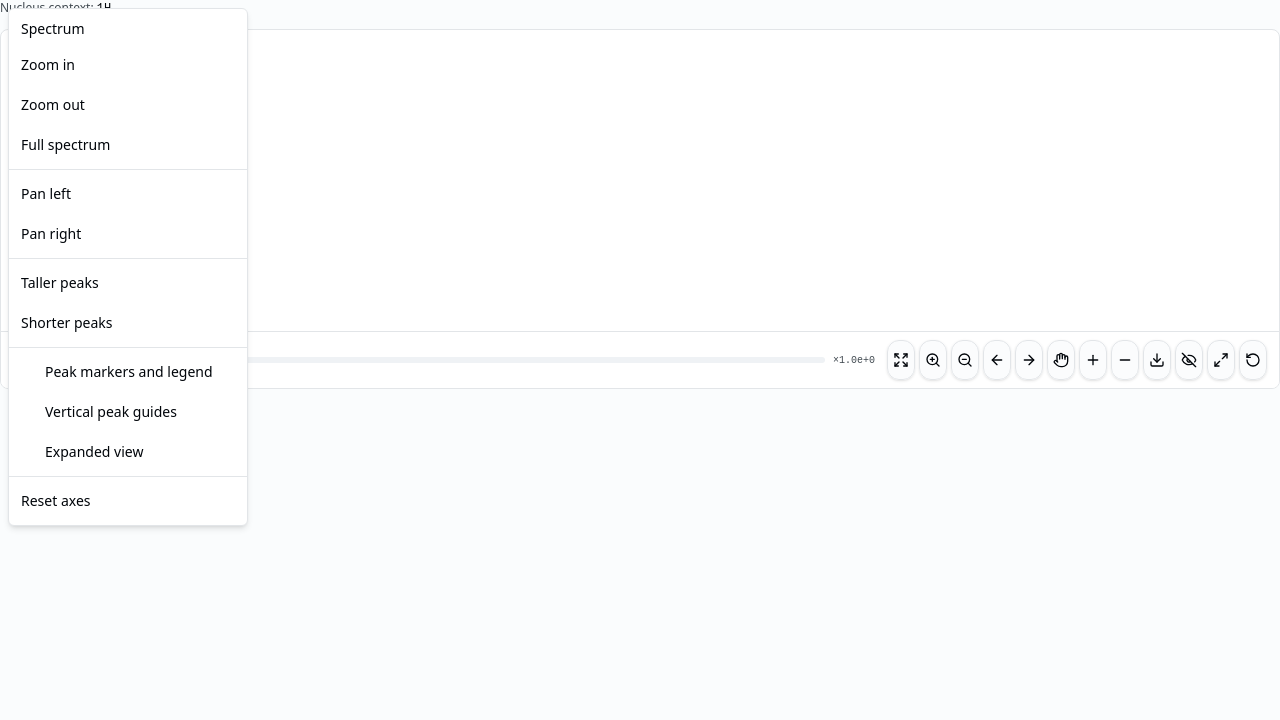
Scenario: SpectrumViewer — picked-peak rendering › defaults peak markers/legend and vertical peak guide lines off, then exposes both in the right-click menu
Earlier steps of the test are not shown.
Later steps or results of the test are not shown.
Click the menu item "Vertical peak guides". click: {"x": 128, "y": 412}
box: [13,392,243,432]
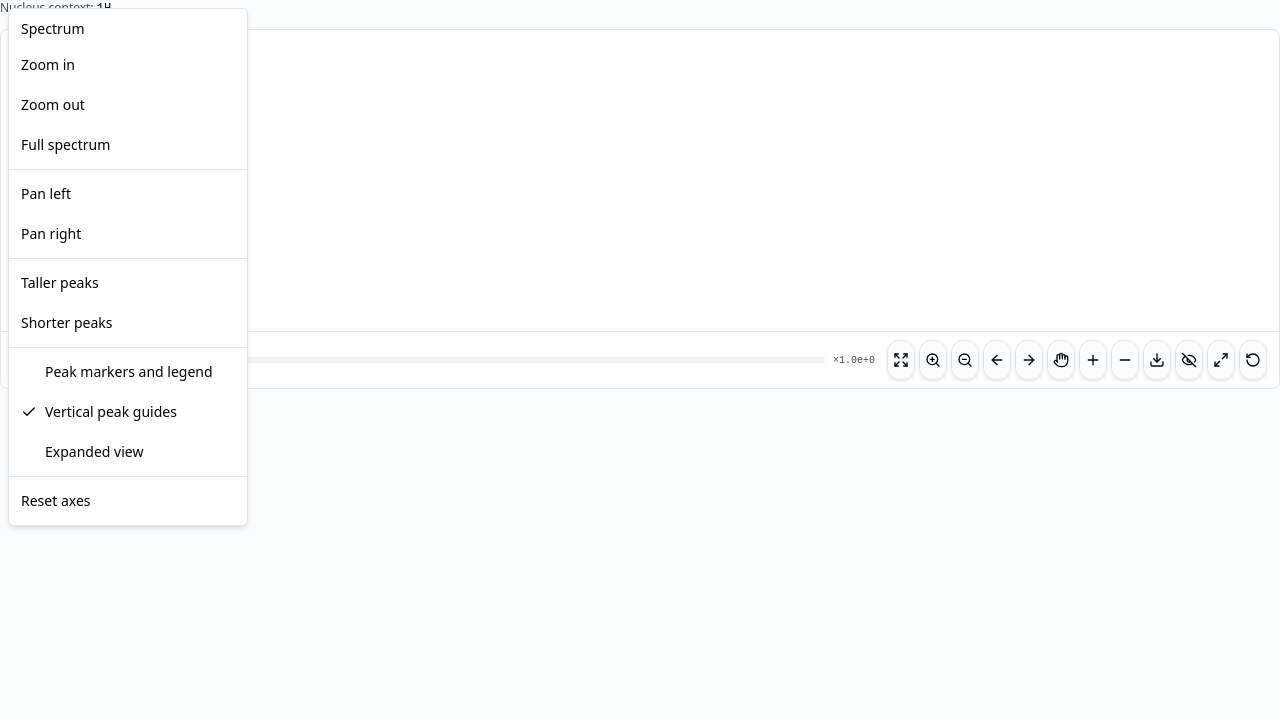
Now the menu "Spectrum" is shown, box [8,8,248,526]
Now the menu item "Vertical peak guides" is shown, box [13,392,243,432]
